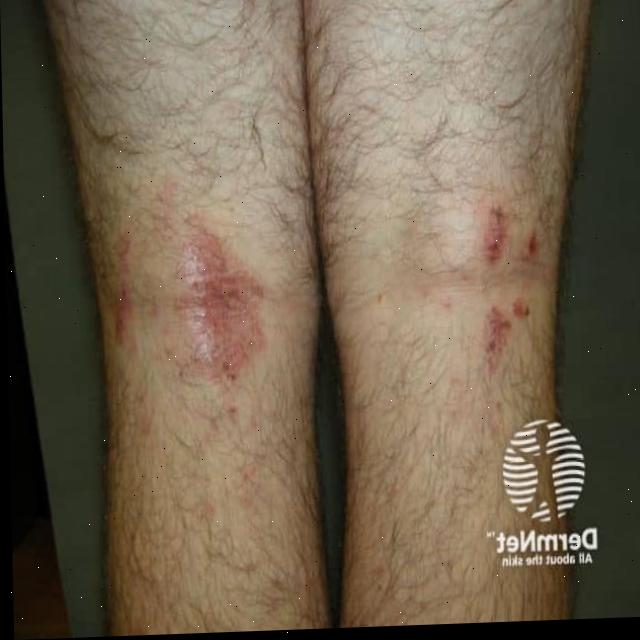Eczema: (163, 216, 277, 388), (472, 189, 553, 360)
